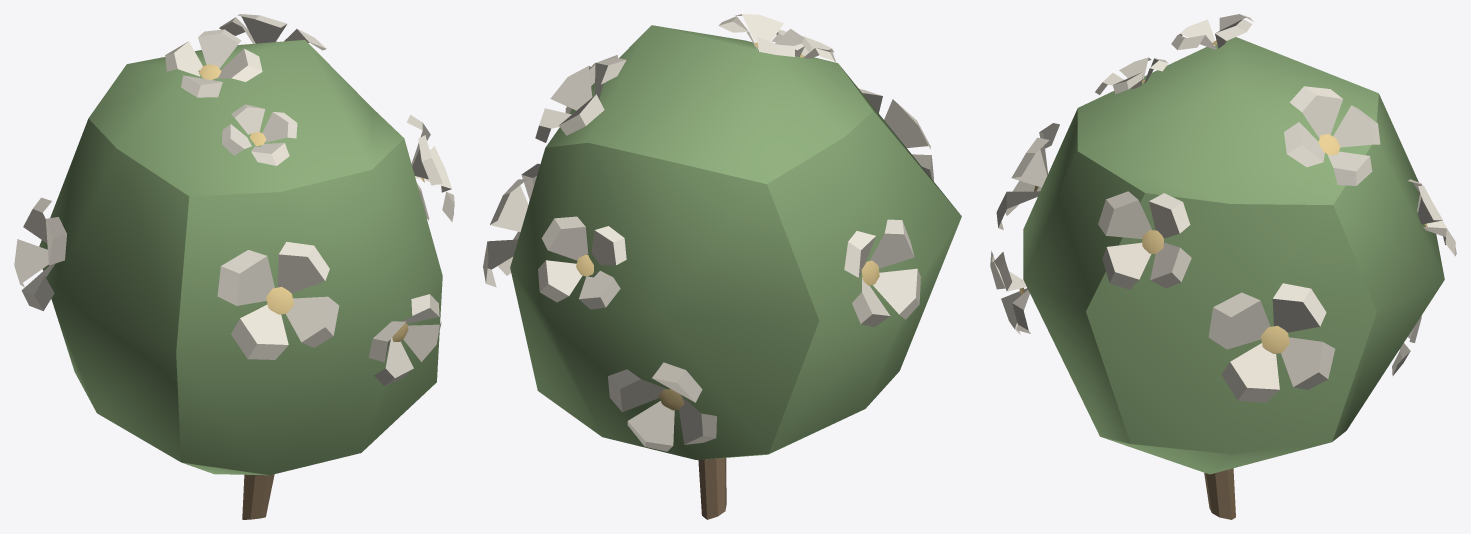
File: whiteFlower.fbx
3 views of the same model, side by side, from view 1: azimuth 30°, elevation 25°; view 2: azimuth 150°, elevation 25°; view 3: azimuth 270°, elevation 25° (orthographic). The views are drawn at different scales.
Parts seen in each view (by area): view 1: bush01, flowerPetals01 (×7), shrubStem01, flowerPollen01; view 2: bush01, flowerPetals01 (×8), shrubStem01; view 3: bush01, flowerPetals01 (×8), shrubStem01, flowerPollen01.
Boxes of the visible parts, x1,y1,x2,y2 form: bush01: (39, 40, 442, 475); flowerPetals01 (×7): (14, 14, 454, 385); shrubStem01: (242, 474, 274, 519); flowerPollen01: (266, 287, 294, 314); bush01: (510, 25, 961, 459); flowerPetals01 (×8): (483, 14, 933, 451); shrubStem01: (698, 458, 726, 519); bush01: (1023, 37, 1444, 474); flowerPetals01 (×8): (990, 14, 1456, 402); shrubStem01: (1204, 468, 1235, 519); flowerPollen01: (1260, 325, 1289, 353).
Size of the model in its own units: 0.6134 by 0.7357 by 0.6482.
